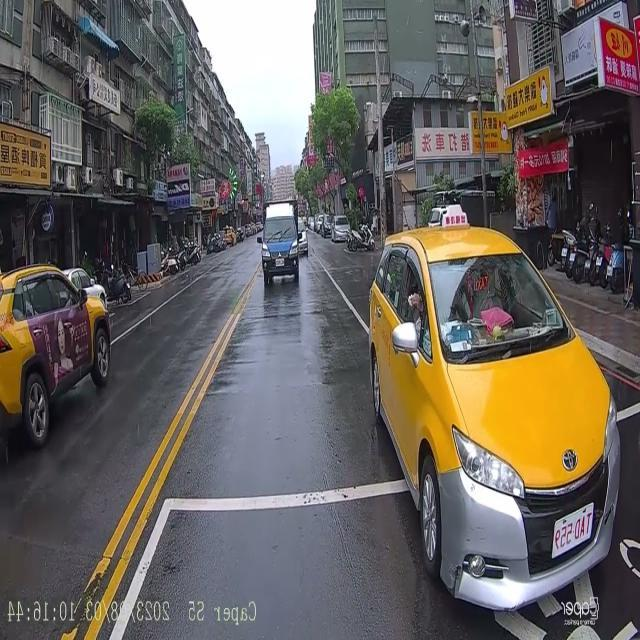taxi: (358, 187, 626, 611), (1, 245, 135, 465)
